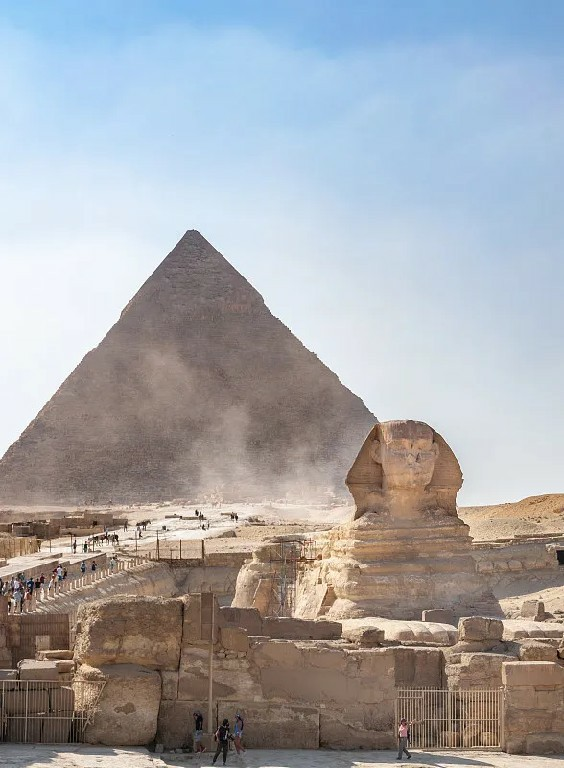Pyramid: (1, 230, 380, 502)
